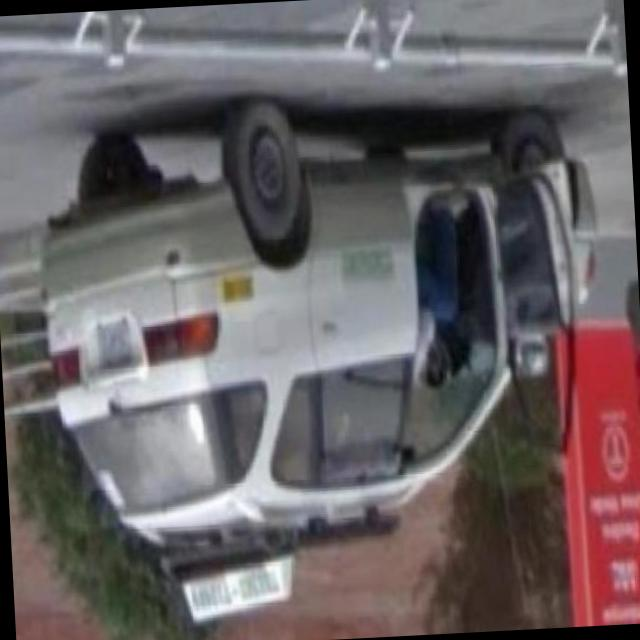car: (29, 76, 608, 566)
